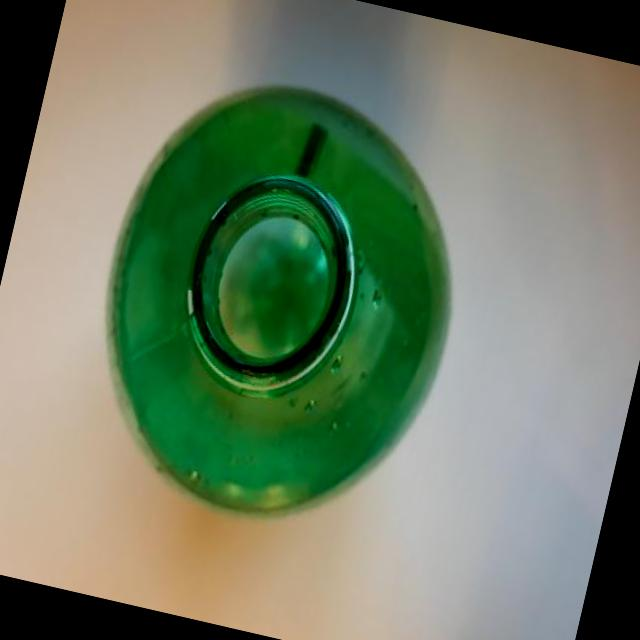Recycle: (59, 51, 500, 558)
